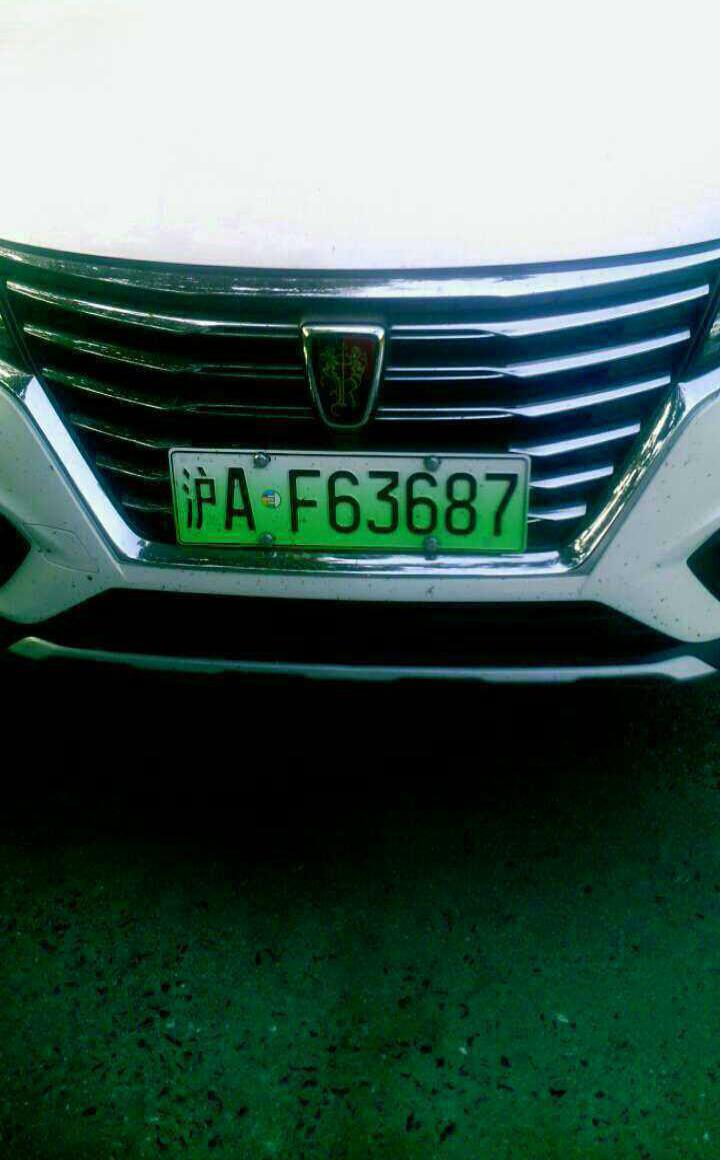car_id: (170, 451, 528, 550)
